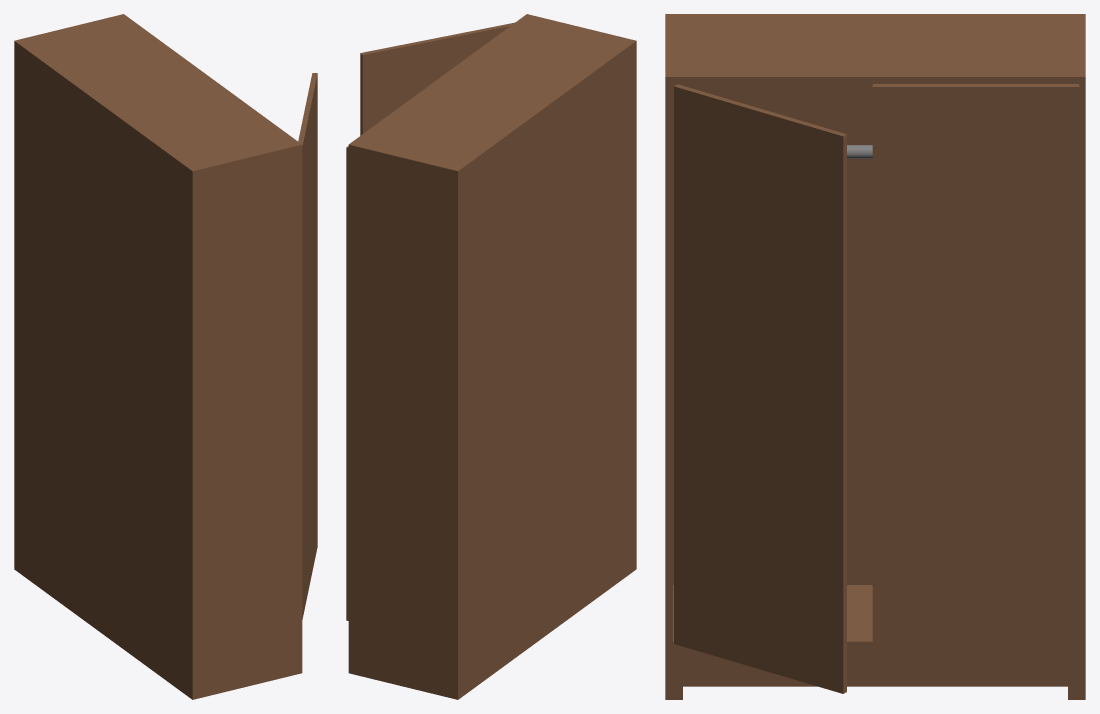
The model's file is clos.fbx.
3 views of the same model, side by side, from view 1: azimuth 30°, elevation 25°; view 2: azimuth 150°, elevation 25°; view 3: azimuth 270°, elevation 25° (orthographic). The views are drawn at different scales.
Parts seen in each view (by area): view 1: Cube.002; view 2: Cube.002; view 3: Cube.002.
Part boxes in pixels (box(x1,y1,x2,y2)): Cube.002: box(14, 14, 317, 699); Cube.002: box(346, 14, 636, 699); Cube.002: box(665, 14, 1085, 699).
Size of the model in its own units: 366 by 922 by 564.
